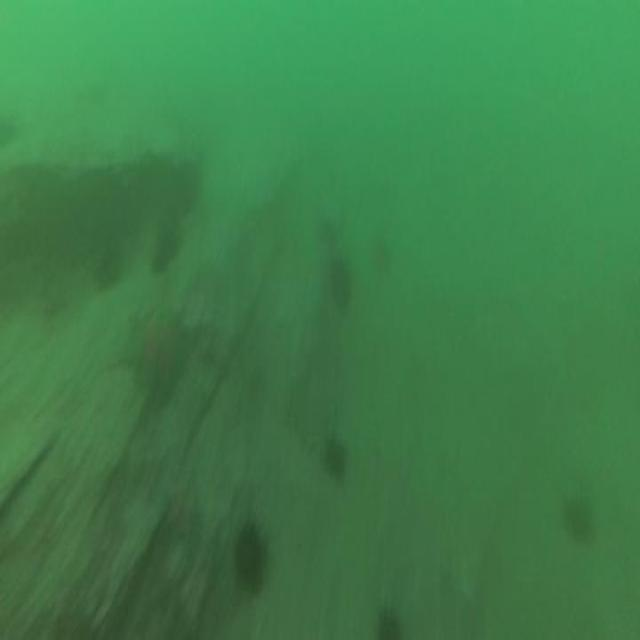echinus: (228, 515, 270, 596), (148, 217, 184, 280), (90, 242, 124, 298), (327, 253, 355, 314), (561, 494, 594, 544), (322, 432, 351, 484), (366, 229, 394, 278), (374, 600, 404, 640), (316, 213, 340, 261)
starfish: (107, 297, 199, 420), (149, 472, 207, 556)
